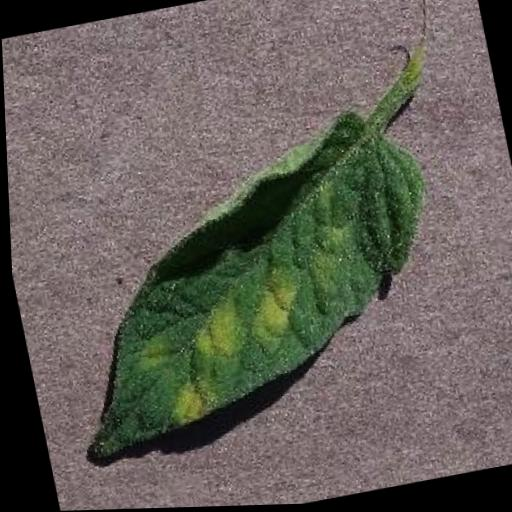Leaf Mold: (25, 97, 465, 462)
